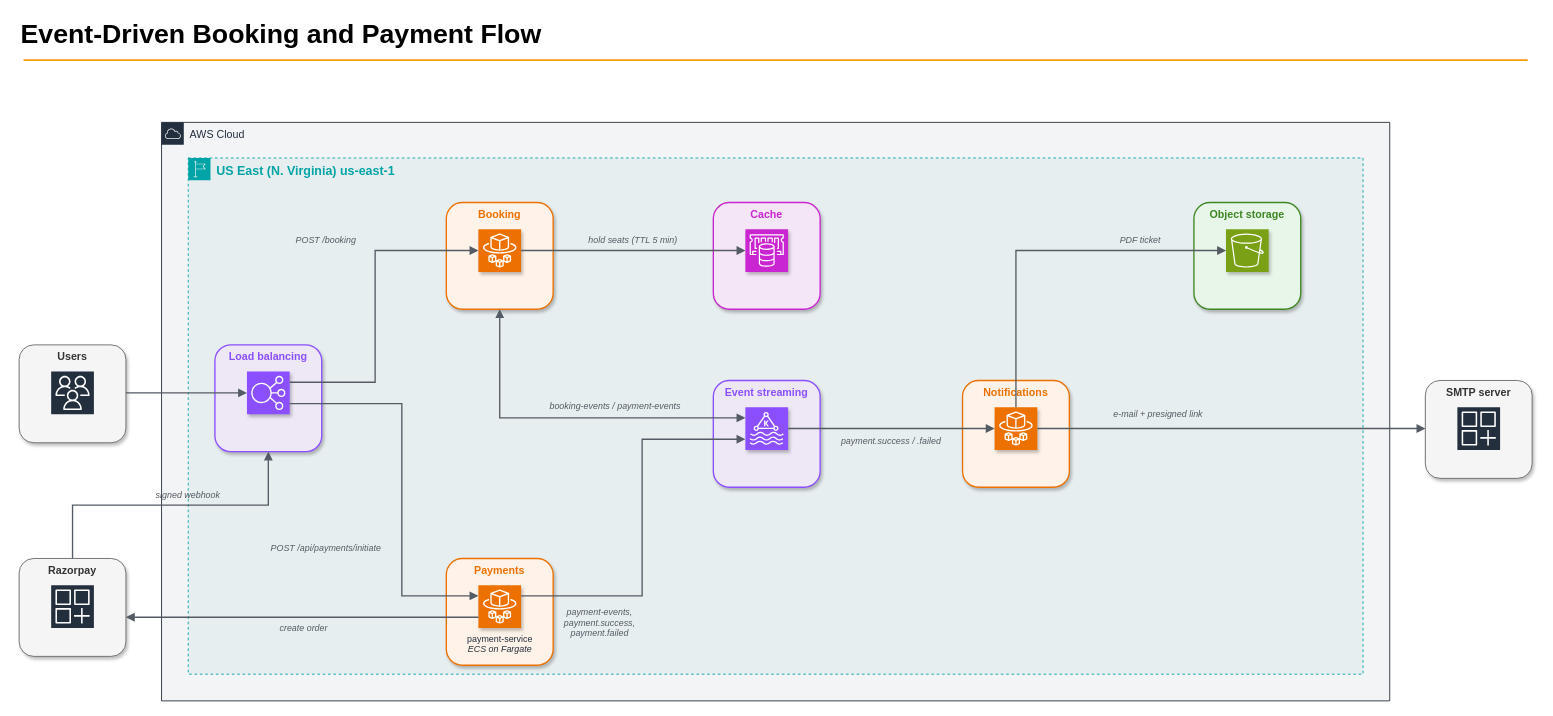
Image size: 1553x716. Some labels were removed from this diagram. The shapes that lost their labels are listed below. From the top down, each one's centre as x and y in pixels, then its label:
the point at 500,251: booking-service ECS on Fargate
the point at 767,251: Amazon ElastiCache seat holds
the point at 1248,251: Amazon S3 e-ticket PDFs
the point at 269,394: Application Load Balancer
the point at 767,429: Amazon MSK Serverless
the point at 1016,429: notification-service ECS on Fargate
